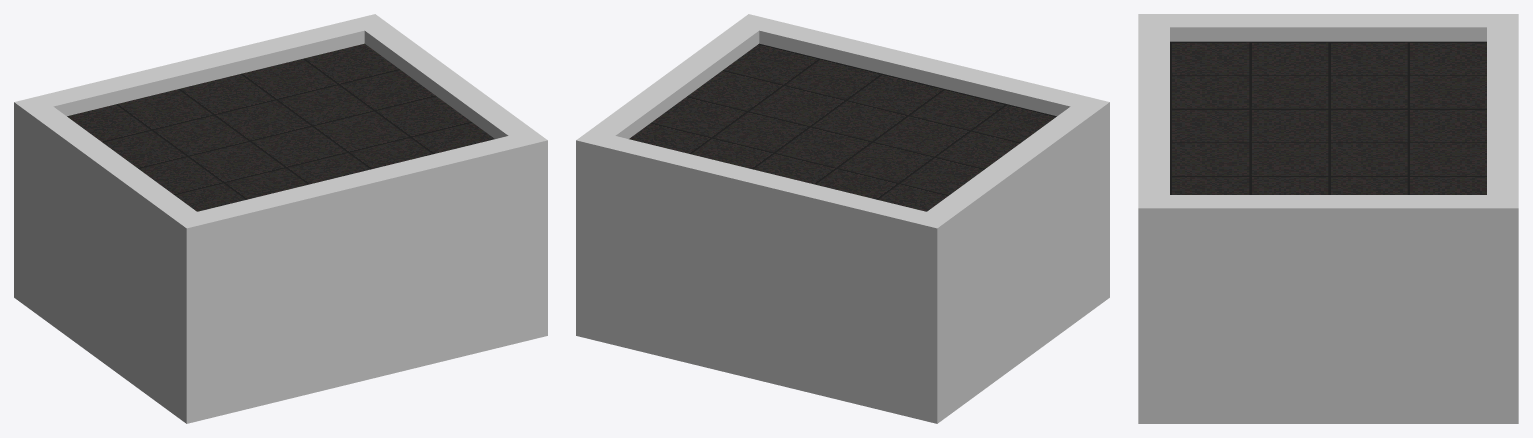
File: save_room.glb
3 views of the same model, side by side, from view 1: azimuth 30°, elevation 25°; view 2: azimuth 150°, elevation 25°; view 3: azimuth 270°, elevation 25° (orthographic). The views are drawn at different scales.
Parts seen in each view (by area): view 1: COL_Wall_S, Room_Shell, COL_Wall_W, COL_Wall_N, COL_Wall_E; view 2: COL_Wall_N, Room_Shell, COL_Wall_W, COL_Wall_S, COL_Wall_E; view 3: COL_Wall_E, Room_Shell, COL_Wall_N, COL_Wall_S, COL_Wall_W.
Boxes of the visible parts, x1=… form: COL_Wall_S: x1=172, y1=130, x2=547, y2=423; Room_Shell: x1=67, y1=43, x2=494, y2=211; COL_Wall_W: x1=28, y1=106, x2=196, y2=412; COL_Wall_N: x1=14, y1=14, x2=389, y2=307; COL_Wall_E: x1=364, y1=24, x2=532, y2=138; COL_Wall_N: x1=576, y1=130, x2=951, y2=423; Room_Shell: x1=629, y1=43, x2=1056, y2=211; COL_Wall_W: x1=927, y1=106, x2=1095, y2=412; COL_Wall_S: x1=734, y1=14, x2=1109, y2=307; COL_Wall_E: x1=591, y1=24, x2=759, y2=138; COL_Wall_E: x1=1170, y1=195, x2=1486, y2=423; Room_Shell: x1=1170, y1=41, x2=1486, y2=194; COL_Wall_N: x1=1487, y1=14, x2=1518, y2=423; COL_Wall_S: x1=1138, y1=14, x2=1169, y2=423; COL_Wall_W: x1=1170, y1=14, x2=1486, y2=41.
Size of the model in its own units: 5.8 by 3 by 4.8.
10 materials, 10 textured.
